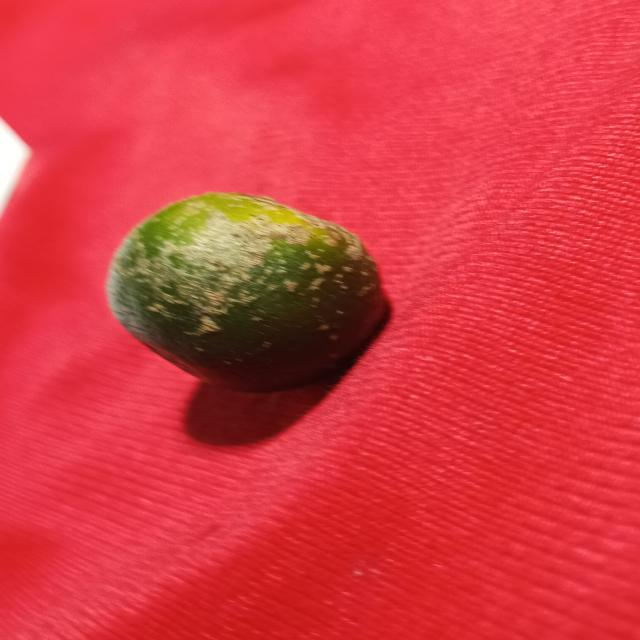scab: (103, 197, 382, 394)
